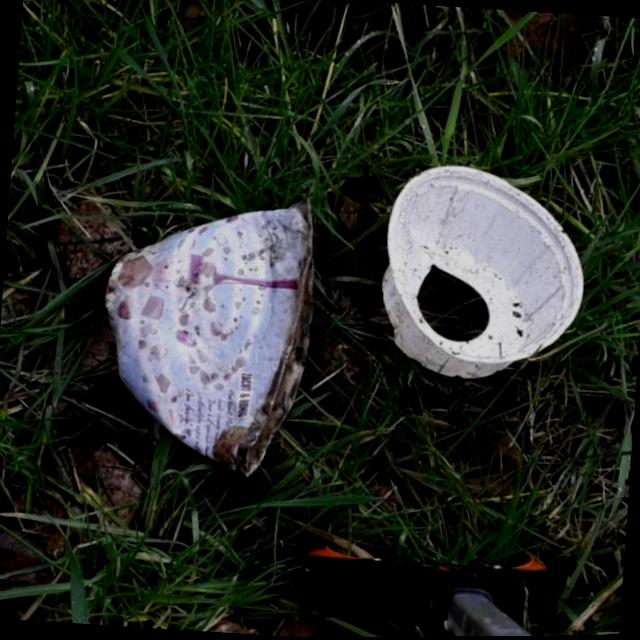Paper: (87, 174, 326, 485), (369, 153, 594, 391)
